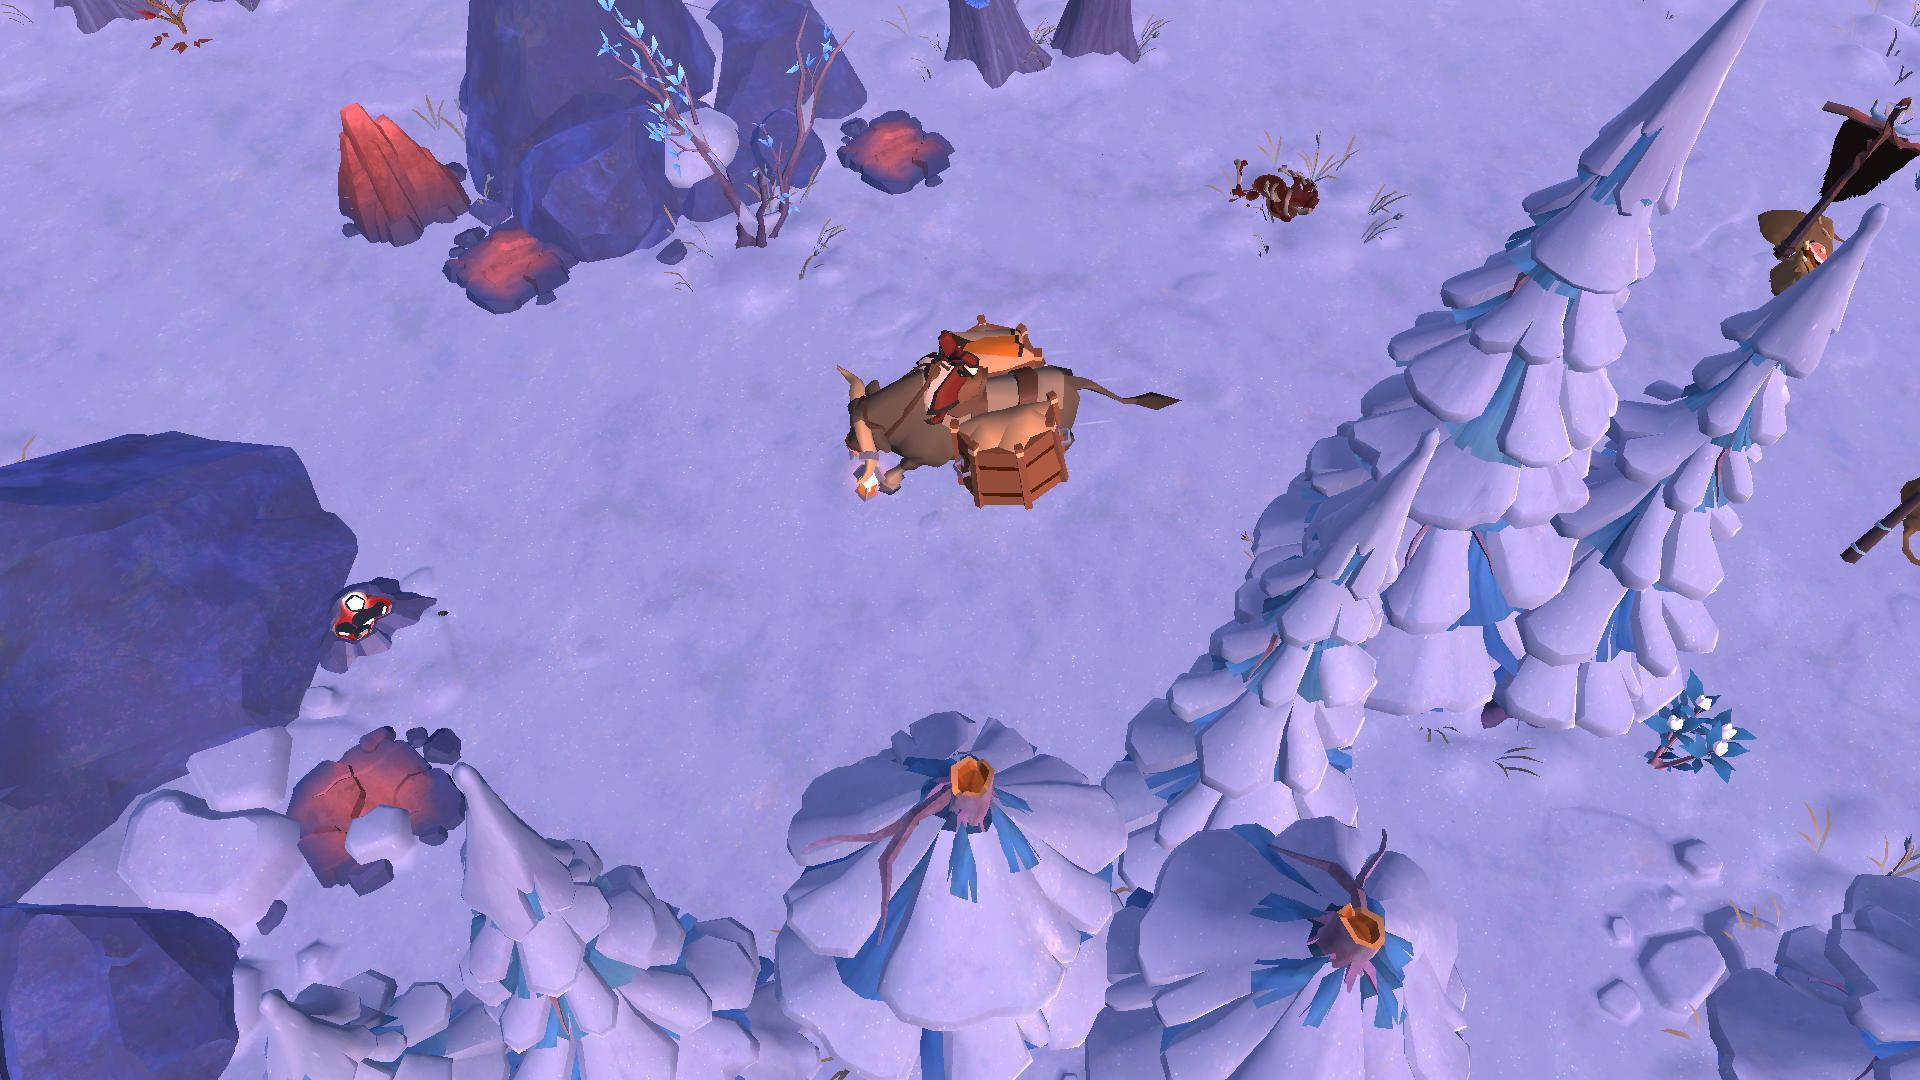fiber_t4: (1642, 667, 1754, 787)
rock_t5: (326, 96, 469, 244)
